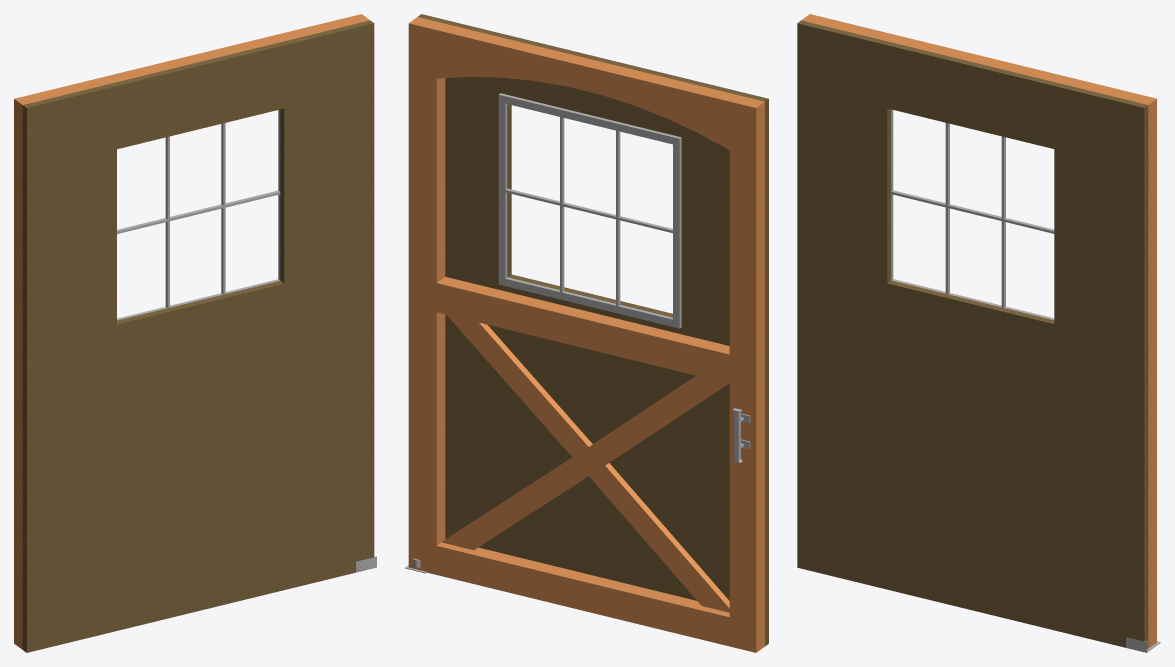
Rendered from Door.gltf.
3 views of the same model, side by side, from view 1: azimuth 30°, elevation 25°; view 2: azimuth 150°, elevation 25°; view 3: azimuth 330°, elevation 25° (orthographic).
Parts seen in each view (by area): view 1: Other; view 2: Other; view 3: Other.
Part boxes in pixels (x1=…): Other: x1=14, y1=14, x2=376, y2=652; Other: x1=405, y1=14, x2=768, y2=652; Other: x1=797, y1=14, x2=1160, y2=652.
Bounding box in the file's own units: 1.91 × 2.84 × 0.1887.
3 materials, 2 textured.
